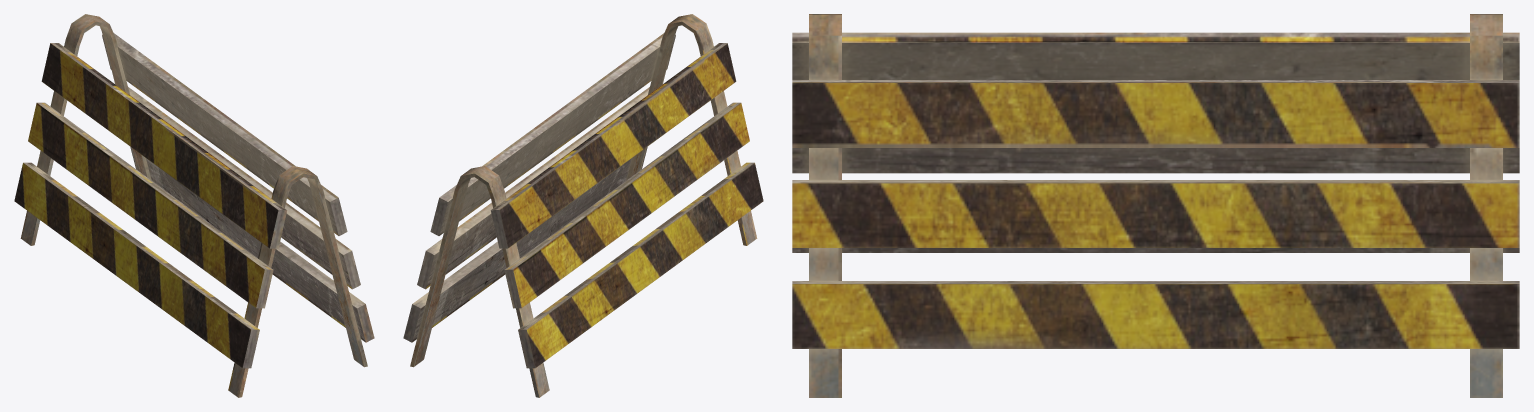
Rendered from fence_1.fbx.
3 renders of one model, left to right at view 1: azimuth 30°, elevation 25°; view 2: azimuth 150°, elevation 25°; view 3: azimuth 270°, elevation 25°, orthographic. The views are drawn at different scales.
Parts seen in each view (by area): view 1: var4_0; view 2: var4_0; view 3: var4_0.
Part boxes in pixels (x1,y1,x2,y2): var4_0: (14,14,374,397); var4_0: (403,14,763,397); var4_0: (792,14,1519,397).
Size of the model in its own units: 61.24 by 92.5 by 183.
Materials: 1 (1 with a texture image).
